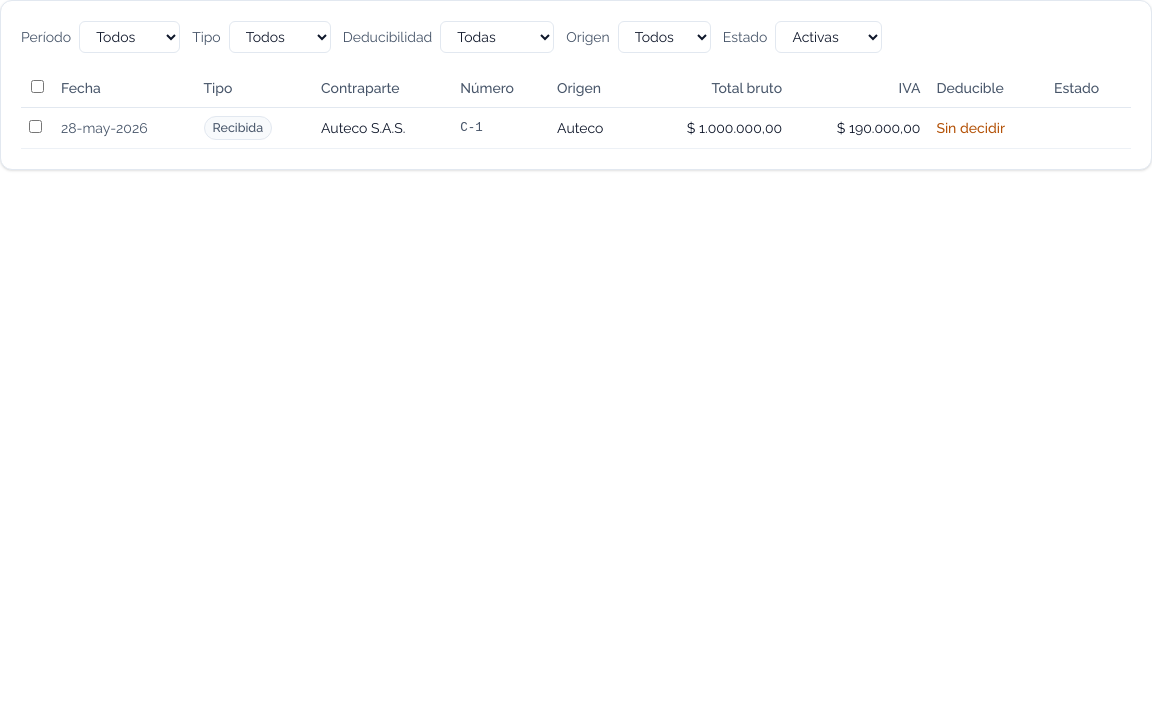
Test case: FacturasTabla › lote: marca deducibles y refresca la liquidación completa
Note: seleccionar la compra
Click the checkbox named "C-1". click: [36, 126]
box: [29,120,42,133]
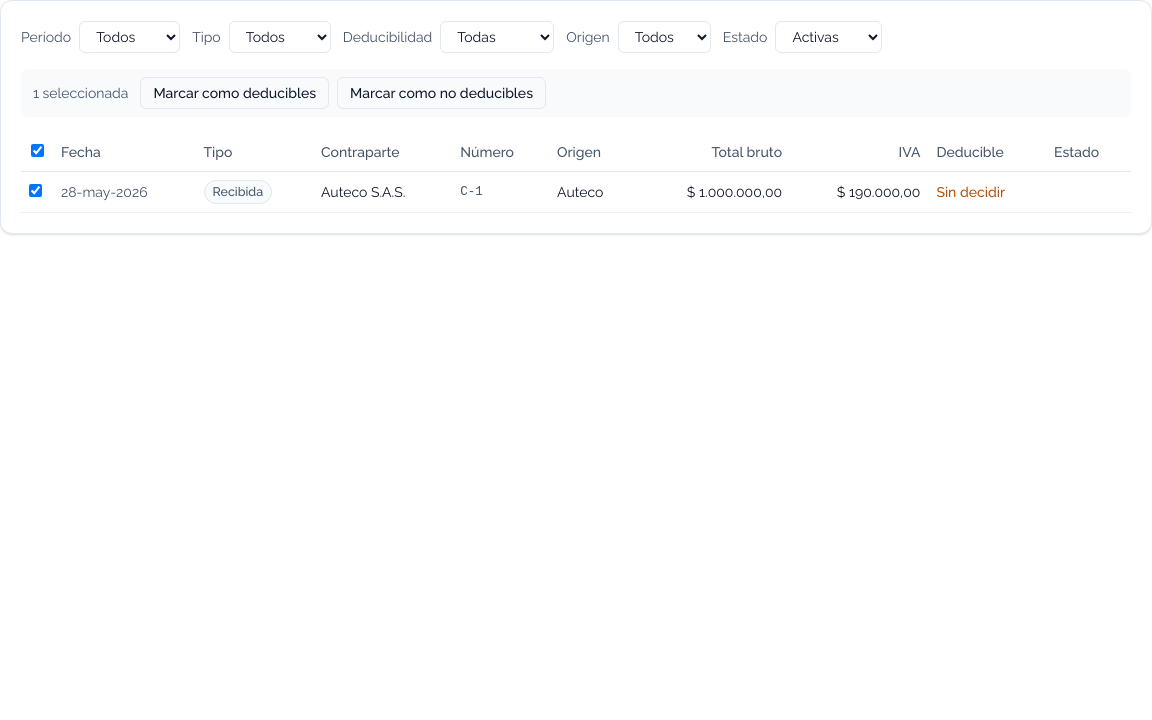
Click the button "Marcar como deducibles". click: [235, 93]
box: [140,77,329,109]
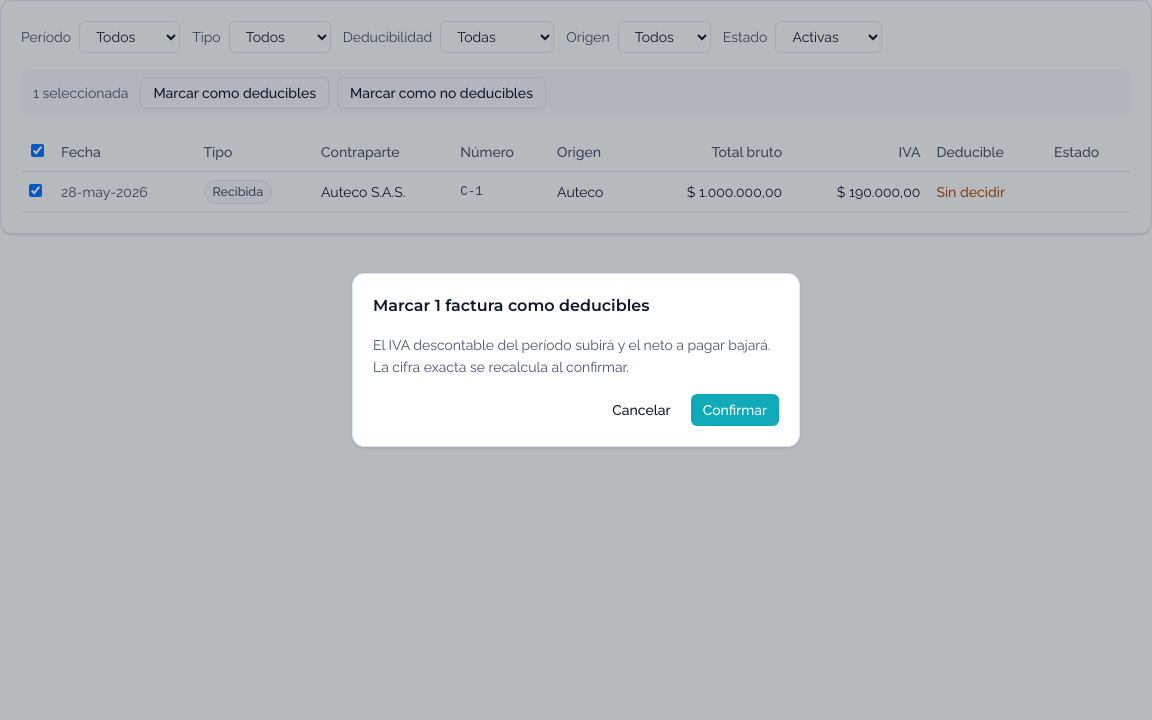
Note: confirmación
Click the button "Confirmar". click: [735, 410]
box: [691,394,779,426]
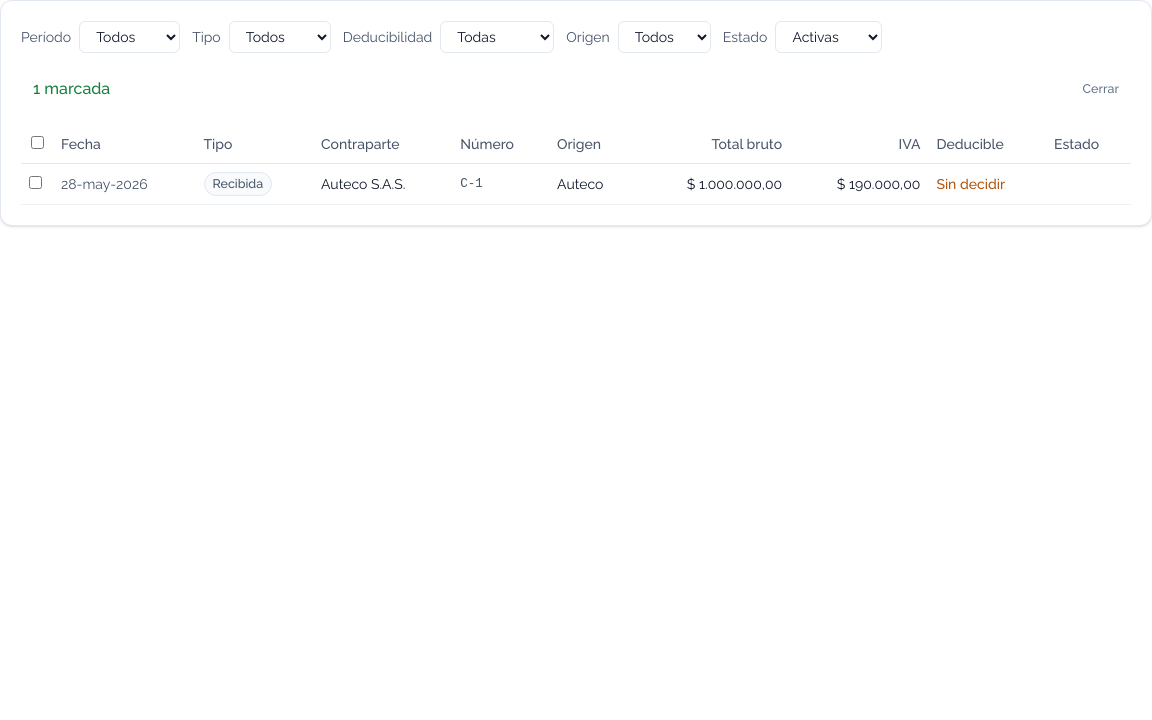
Expected: the text "1 marcada" is shown, [33,77,110,101]
